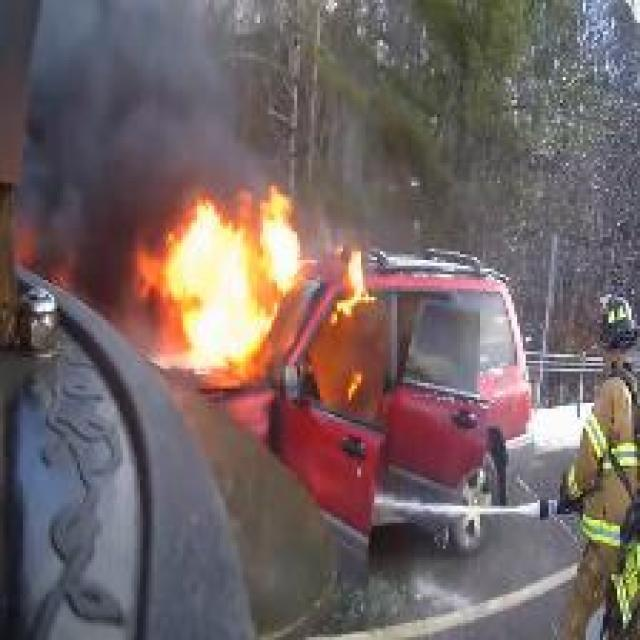Fire: (157, 188, 306, 367), (334, 248, 367, 316)
Smoke: (32, 0, 154, 281), (155, 0, 280, 182)
